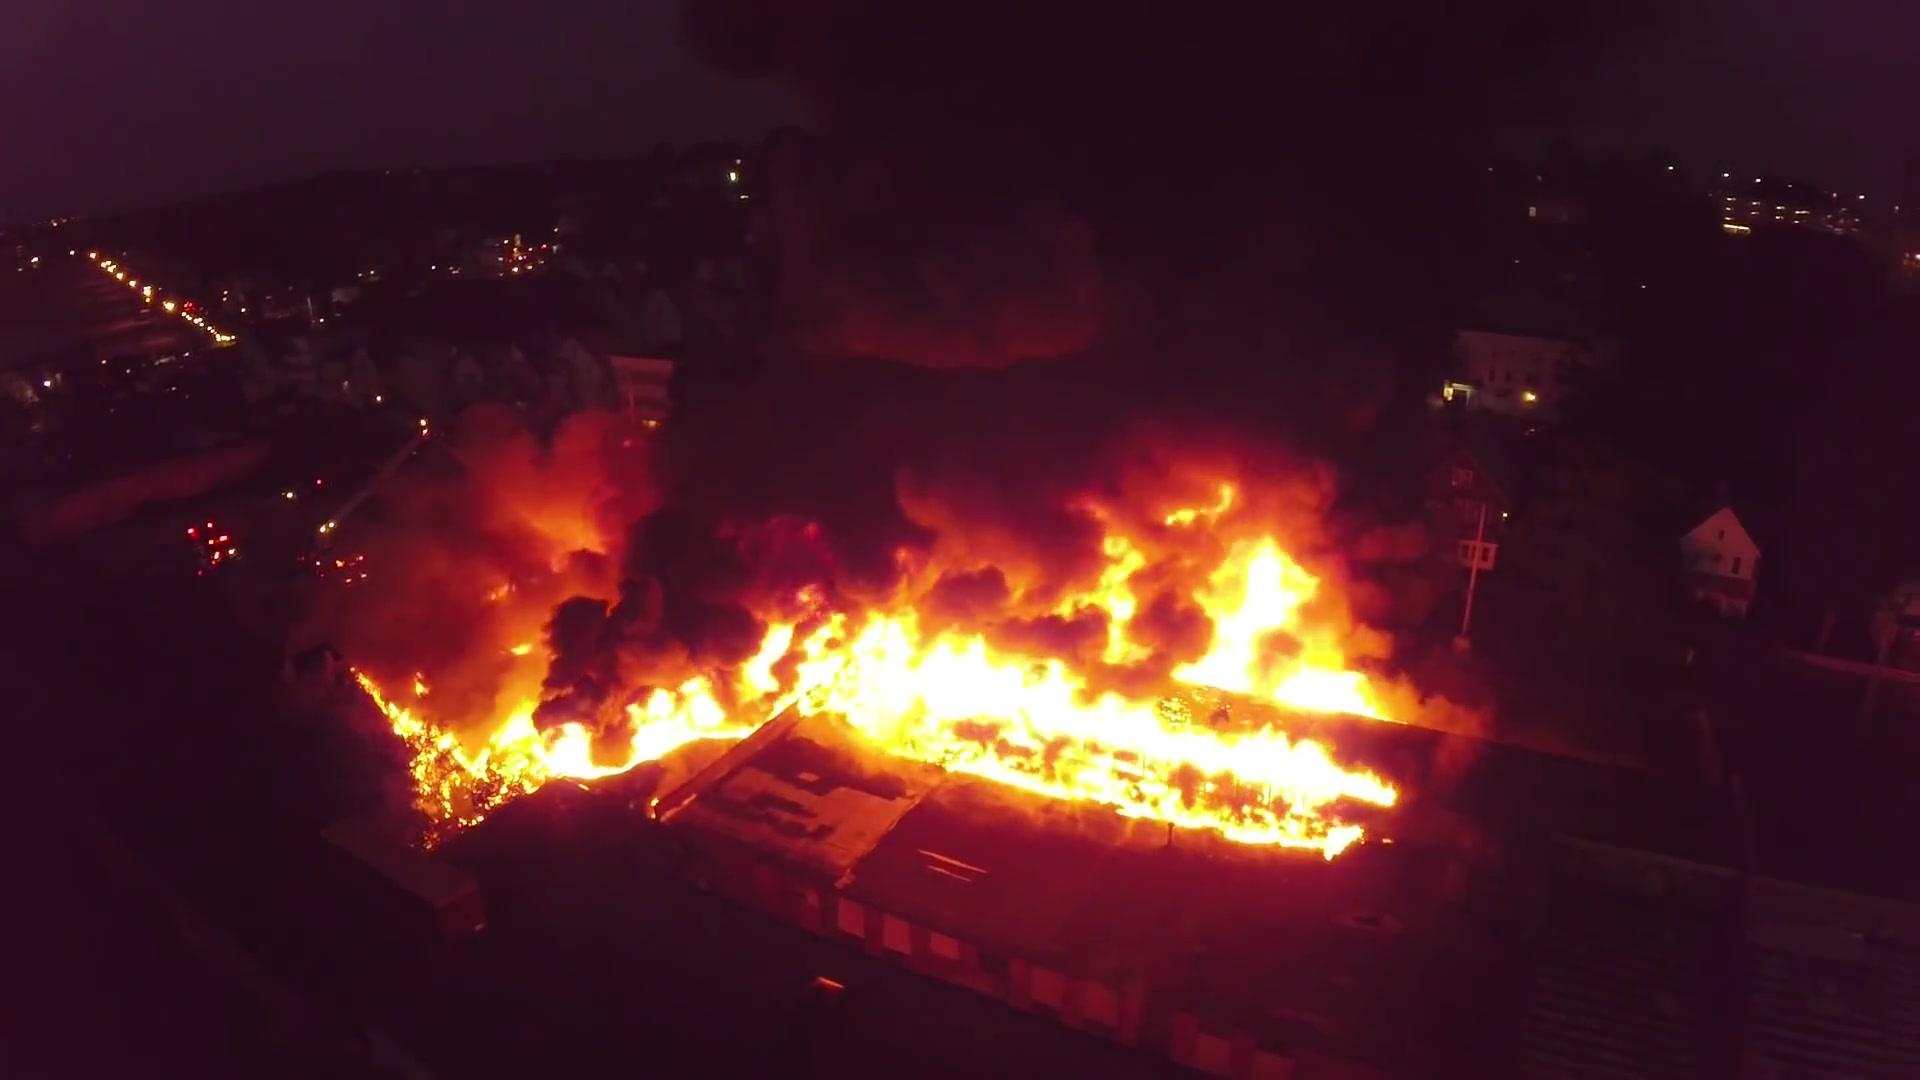fire: (825, 618, 1362, 810), (534, 686, 771, 762)
